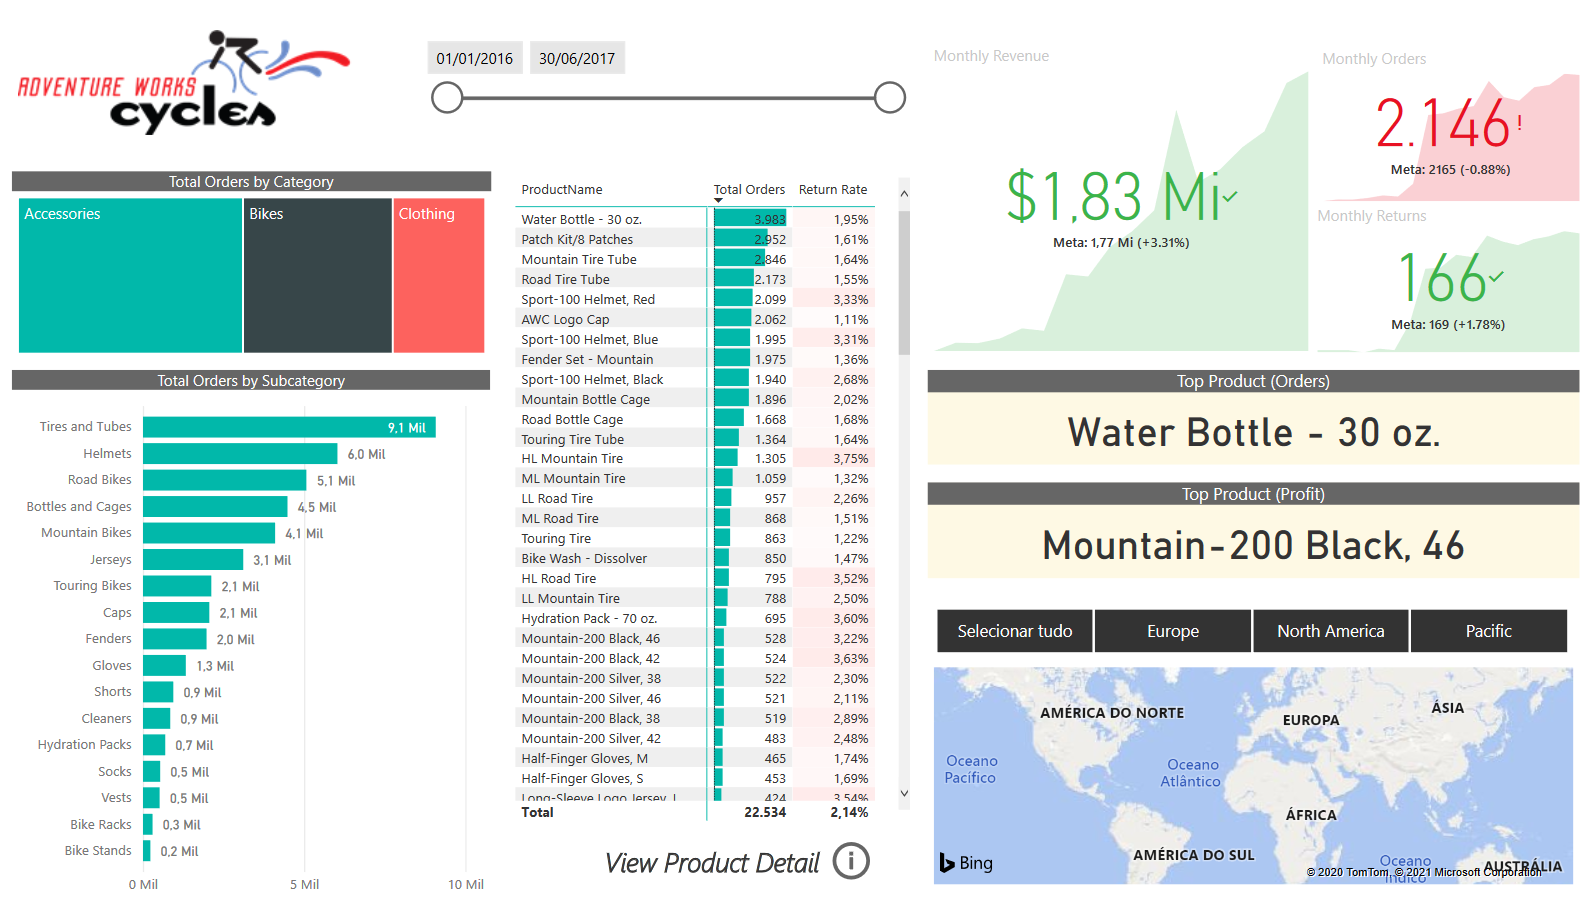

Layout of this report page (visuals, bound fields, positions):
{"tool":"powerbi","page":{"name":"Exec Summary","canvas":[1280,720],"ordinal":0},"visuals":[{"type":"image","box":[11.3,10.2,279.3,102.3],"z":0},{"type":"barChart","title":"Total Orders by Subcategory","fields":{"Y":["AW_Sales.Total Orders"],"Category":["AW_Product_Subcategory_Lookup.SubcategoryName"]},"box":[11.4,291.3,383.3,428.7],"z":1000},{"type":"treemap","title":"Total Orders by Category","fields":{"Group":["AW_Product_Category_Lookup.CategoryName","AW_Product_Subcategory_Lookup.SubcategoryName"],"Values":["AW_Sales.Total Orders"]},"box":[11.2,132.3,383.6,150.6],"z":2000},{"type":"pivotTable","fields":{"Rows":["AW_Product_Category_Lookup.CategoryName","AW_Product_Subcategory_Lookup.SubcategoryName","AW_Product_Lookup.ProductName"],"Values":["AW_Sales.Total Orders","AW_Returns.Return Rate"]},"box":[409,132.3,325.6,525],"z":3000},{"type":"slicer","fields":{"Values":["AW_Calendar_Lookup.Date"]},"box":[330.6,17.6,403.9,85.7],"z":4000},{"type":"kpi","title":"Monthly Revenue","fields":{"Indicator":["AW_Sales.Total Revenue"],"TrendLine":["AW_Calendar_Lookup.Start of Month"],"Goal":["AW_Sales.Prev Month Revenue"]},"box":[743.8,30.5,310.3,250.3],"z":5000},{"type":"kpi","title":"Monthly Orders","fields":{"TrendLine":["AW_Calendar_Lookup.Start of Month"],"Goal":["AW_Sales.Prev Month Orders"],"Indicator":["AW_Sales.Total Orders"]},"box":[1055.1,32.6,215.7,128.2],"z":6000},{"type":"kpi","title":"Monthly Returns","fields":{"TrendLine":["AW_Calendar_Lookup.Start of Month"],"Goal":["AW_Returns.Prev Month Returns"],"Indicator":["AW_Returns.Total Returns"]},"box":[1051.1,158.7,219.8,123.1],"z":7000},{"type":"card","title":"Top Product (Orders)","fields":{"Values":["Min(AW_Product_Lookup.ProductName)"]},"box":[743.8,291,522,76.3],"z":7001},{"type":"card","title":"Top Product (Profit)","fields":{"Values":["Min(AW_Product_Lookup.ProductName)"]},"box":[743.8,380.5,522,77.3],"z":7002},{"type":"map","fields":{"Category":["AW_Territories_Lookup.Country"],"Size":["AW_Sales.Total Orders"]},"box":[743.8,524,522,184.2],"z":7003},{"type":"slicer","fields":{"Values":["AW_Territories_Lookup.Continent"]},"box":[726.5,476.2,553.5,47.8],"z":7004},{"type":"textbox","box":[480.3,665.4,194.3,42.7],"z":7005},{"type":"actionButton","box":[663.4,664.4,45.8,39.7],"z":7006}]}

Visuals, with their boxes in screenshot pixels (x1, y1, x2, y2), scaled from the page's 1280x720 canvas onto the 1594x910 screenshot:
image: (14,13,362,142)
"Total Orders by Subcategory" barChart: (14,368,492,909)
"Total Orders by Category" treemap: (14,167,492,358)
pivotTable - AW_Product_Category_Lookup.CategoryName x AW_Product_Subcategory_Lookup.SubcategoryName: (509,167,915,831)
slicer - AW_Calendar_Lookup.Date: (412,22,915,131)
"Monthly Revenue" kpi: (926,39,1313,355)
"Monthly Orders" kpi: (1314,41,1583,203)
"Monthly Returns" kpi: (1309,201,1583,356)
"Top Product (Orders)" card: (926,368,1576,464)
"Top Product (Profit)" card: (926,481,1576,579)
map - AW_Territories_Lookup.Country x AW_Sales.Total Orders: (926,662,1576,895)
slicer - AW_Territories_Lookup.Continent: (905,602,1593,662)
textbox: (598,841,840,895)
actionButton: (826,840,883,890)
